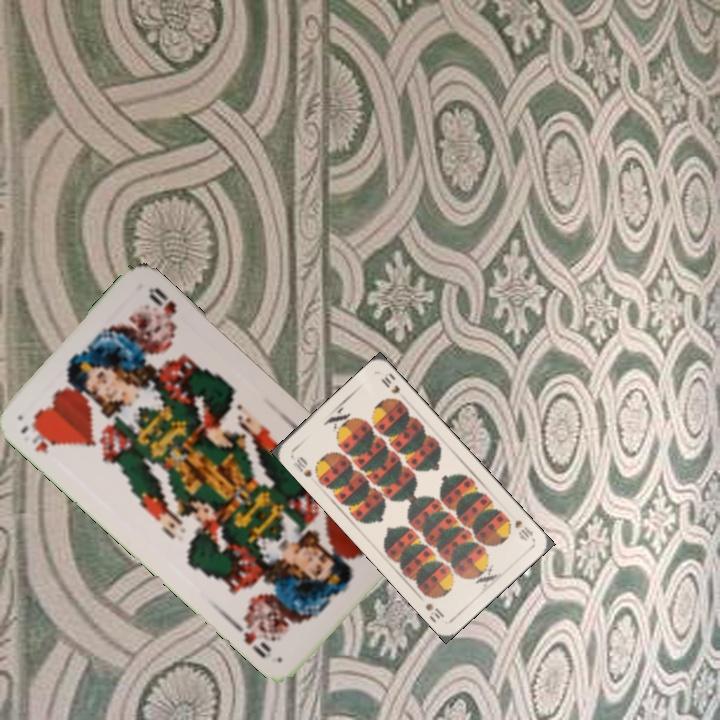HO: (16, 418, 62, 457)
S10: (510, 515, 536, 544), (289, 452, 314, 480)
